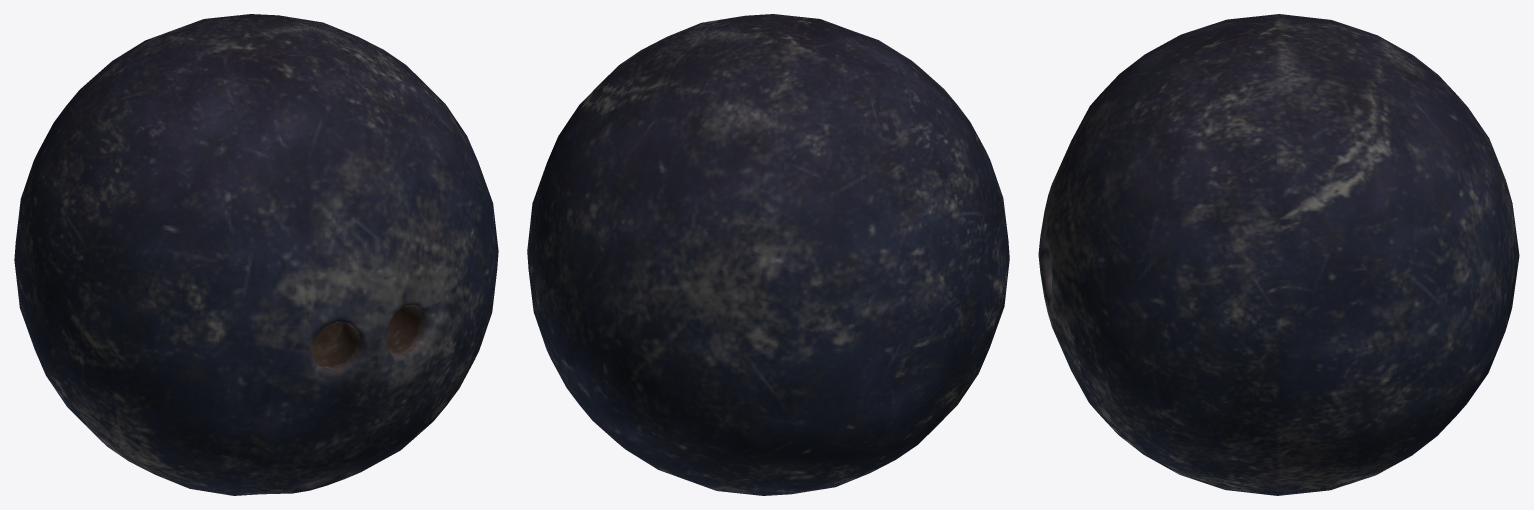
Rendered from bowling_ball.gltf.
3 views of the same model, side by side, from view 1: azimuth 30°, elevation 25°; view 2: azimuth 150°, elevation 25°; view 3: azimuth 270°, elevation 25° (orthographic).
Parts seen in each view (by area): view 1: g; view 2: g; view 3: g.
Boxes of the visible parts, x1,y1,x2,y2 form: g: [14, 14, 498, 495]; g: [527, 14, 1009, 495]; g: [1038, 14, 1519, 495].
Size of the model in its own units: 2 by 2 by 2.
1 material, 1 textured.
